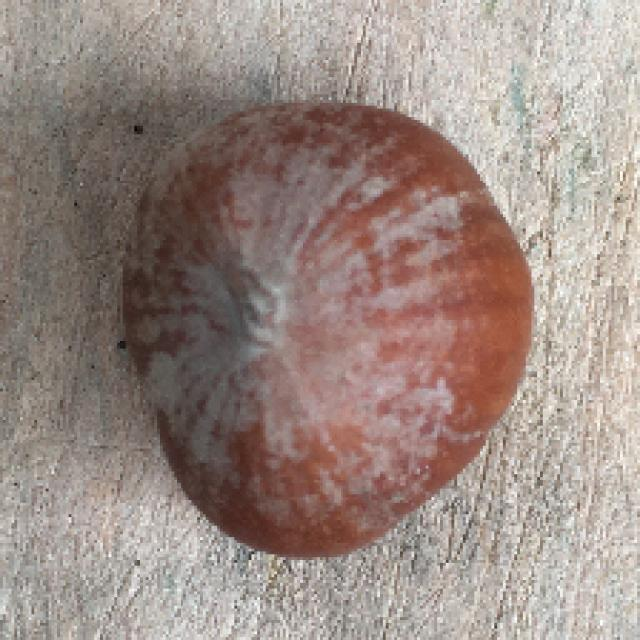qualityHazelnut: (117, 106, 542, 555)
